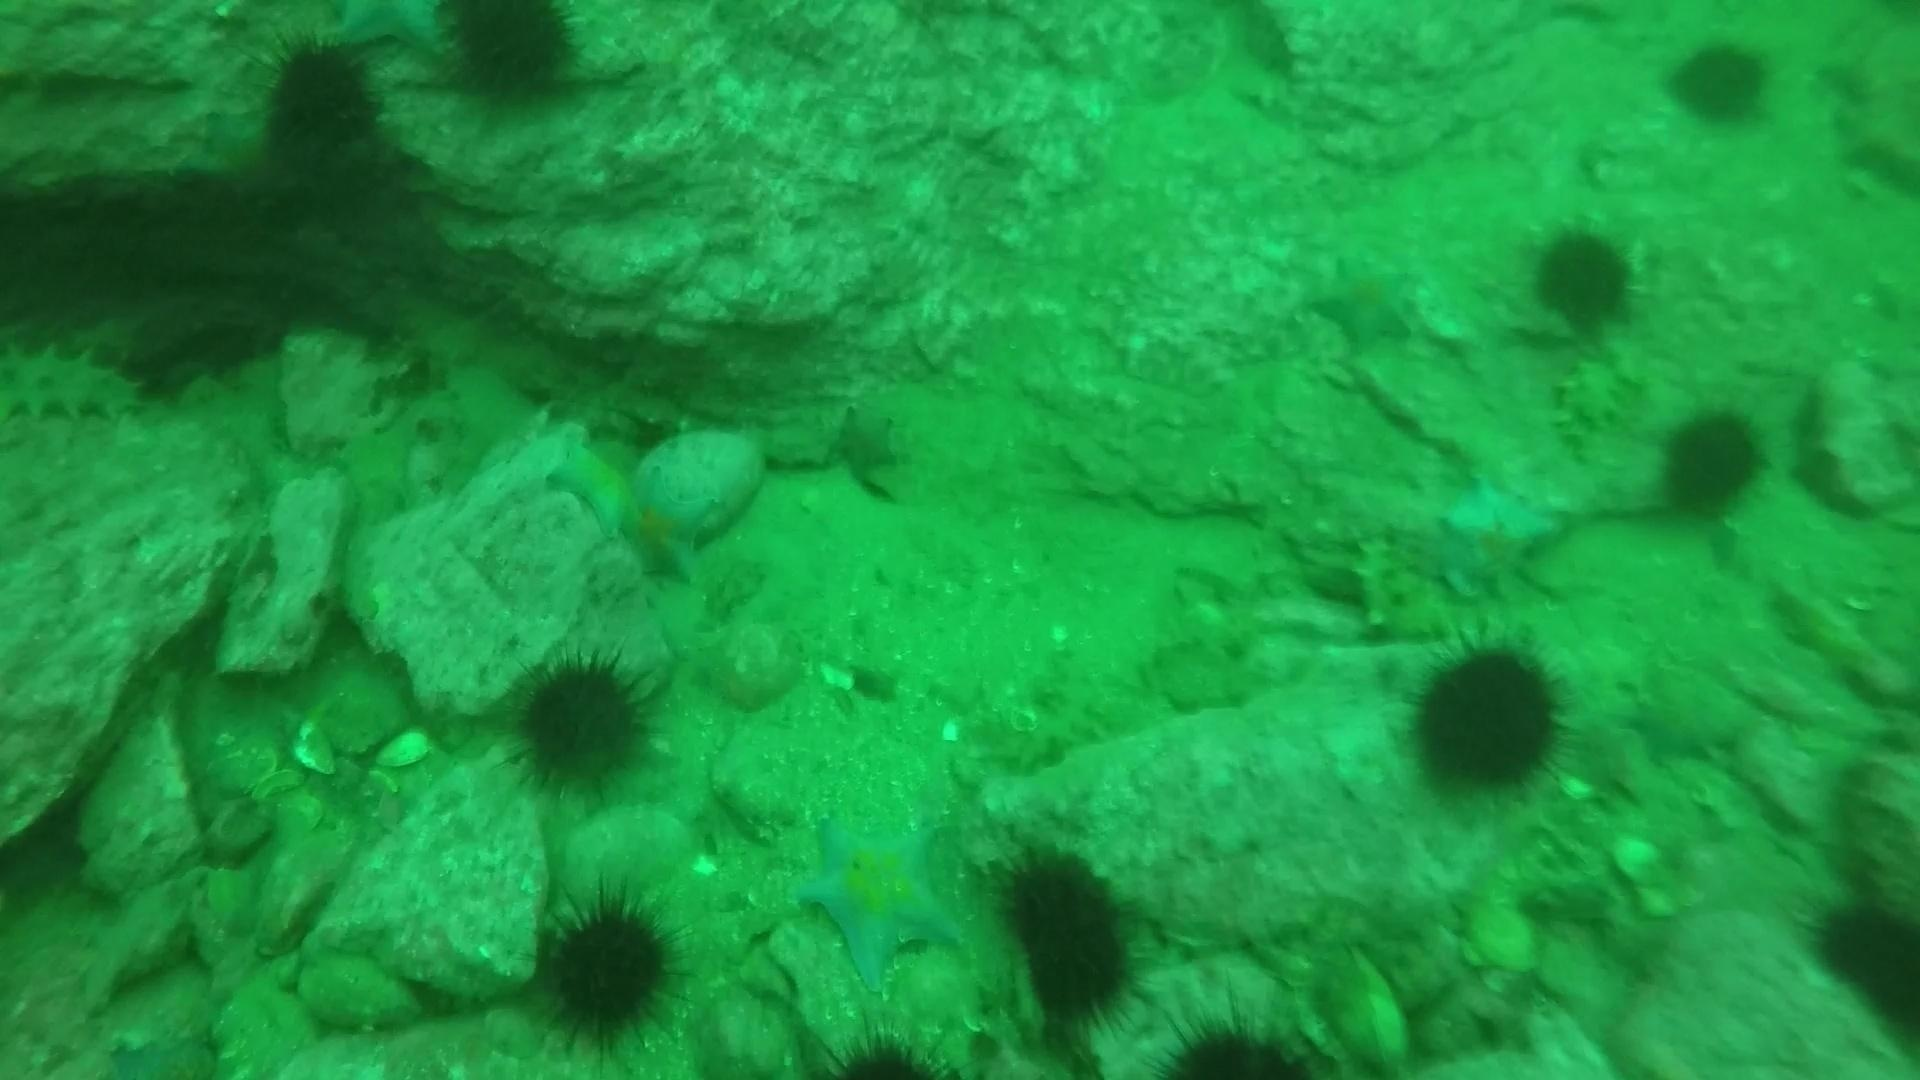echinus: (989, 841, 1153, 1035), (1399, 634, 1575, 800), (527, 885, 686, 1054), (502, 647, 662, 799), (1804, 890, 1919, 1040), (433, 3, 587, 111), (255, 33, 382, 156), (1652, 404, 1768, 524), (1526, 222, 1642, 338), (1150, 1010, 1336, 1076), (1662, 36, 1775, 131), (823, 1026, 955, 1077)
holothurian: (1, 332, 152, 434), (1342, 527, 1455, 647), (1549, 345, 1640, 458)
scallop: (1291, 942, 1418, 1073)
starfish: (789, 811, 967, 992), (1431, 471, 1569, 603), (1303, 251, 1424, 353), (611, 472, 719, 585), (541, 430, 646, 545), (825, 402, 913, 502), (322, 1, 455, 61), (189, 103, 280, 185)
